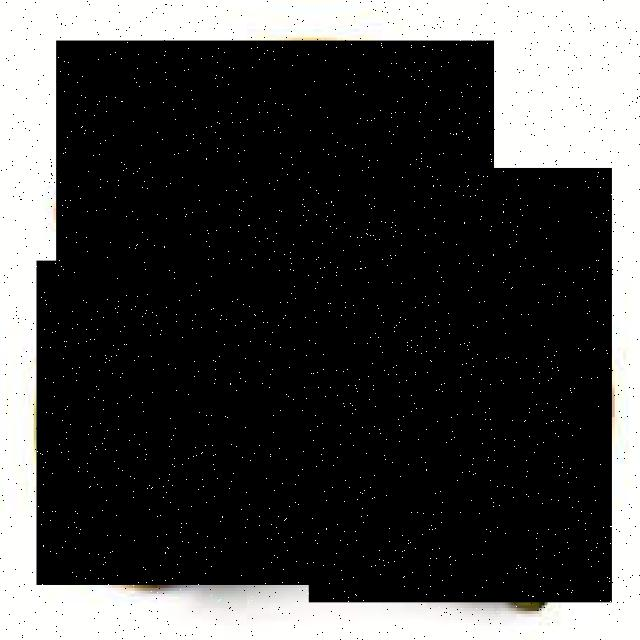Lemon: (309, 168, 612, 602), (56, 41, 494, 261), (36, 261, 314, 585), (172, 168, 269, 278)
